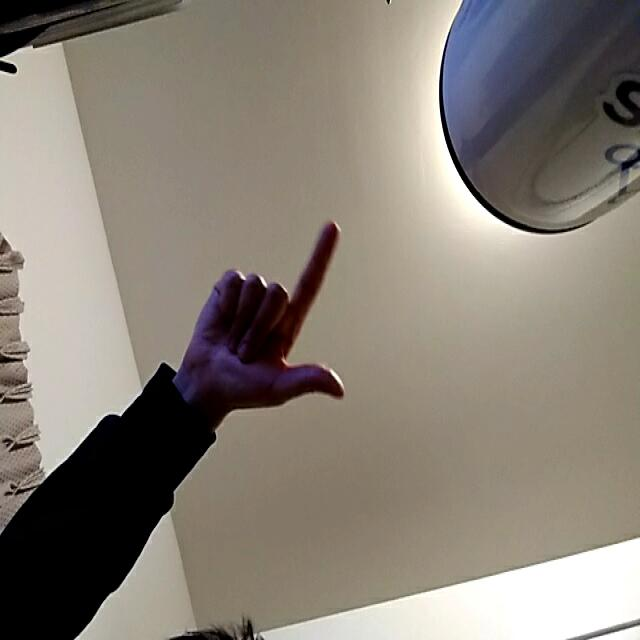L: (149, 202, 396, 447)
